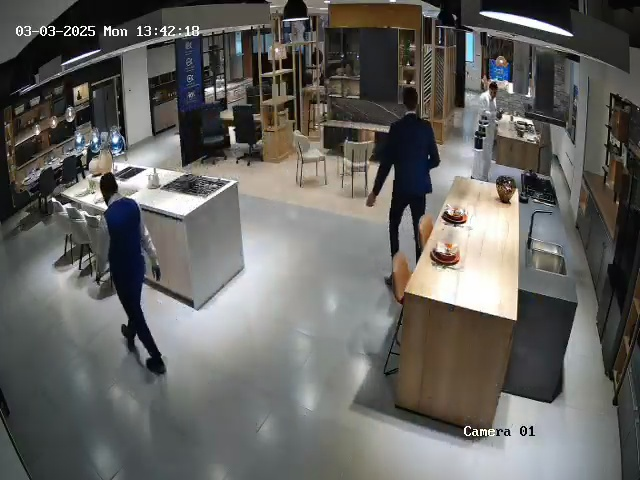employee: (98, 172, 167, 376), (365, 87, 441, 262)
male: (478, 82, 502, 178)
